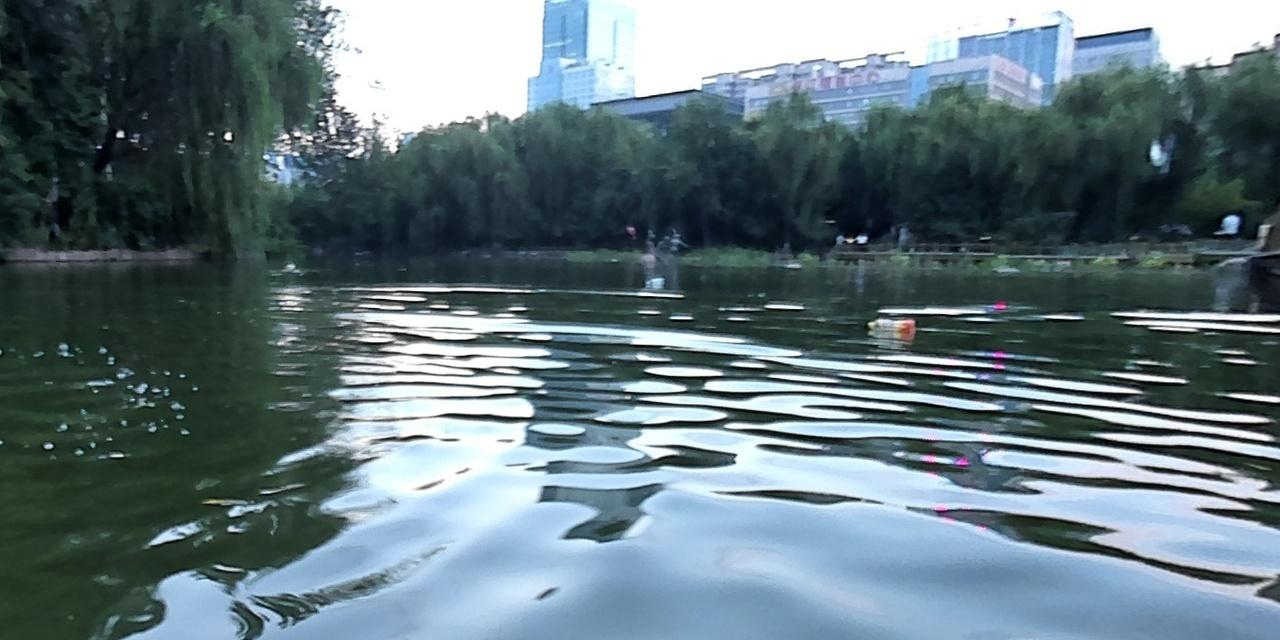bottle: (868, 317, 914, 335), (645, 275, 663, 287)
